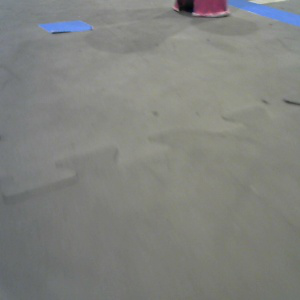right: (172, 1, 230, 17)
